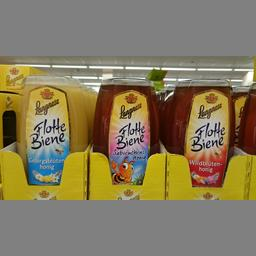honey: (18, 74, 86, 188), (170, 79, 236, 193), (91, 79, 160, 186)
